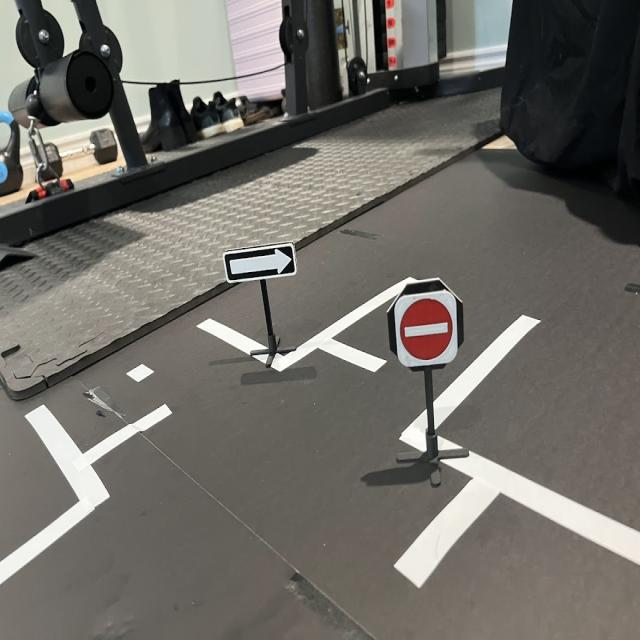sign_noentry: (395, 296, 460, 366)
sign_oneway_right: (224, 240, 298, 285)
